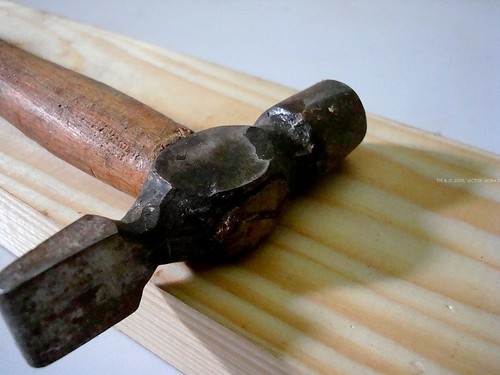hammer: (1, 39, 368, 370)
